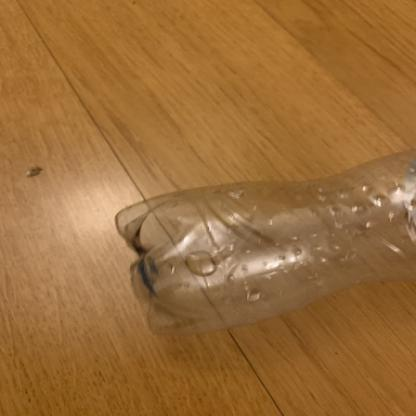trash: (116, 142, 416, 342)
